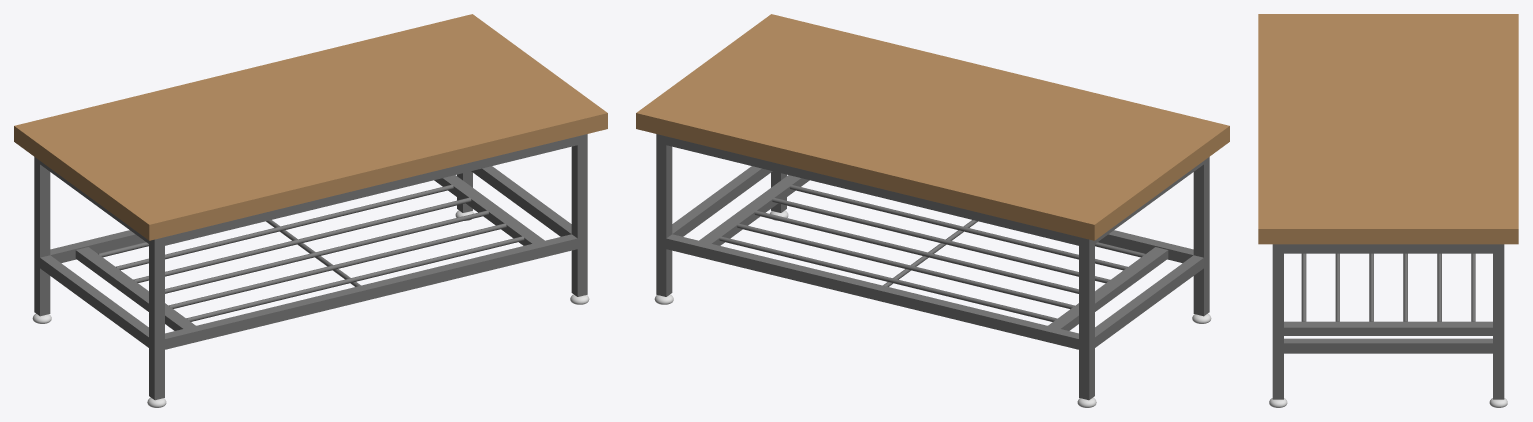
The model's file is 398_センターテーブル.glb.
The picture shows the model from 3 angles, left to right: view 1: azimuth 30°, elevation 25°; view 2: azimuth 150°, elevation 25°; view 3: azimuth 270°, elevation 25°; orthographic projection. The views are drawn at different scales.
Visible parts, largest first — view 1: 398_センターテーブル; view 2: 398_センターテーブル; view 3: 398_センターテーブル.
Boxes of the visible parts, x1,y1,x2,y2 form: 398_センターテーブル: (14, 14, 607, 407); 398_センターテーブル: (636, 14, 1229, 407); 398_センターテーブル: (1258, 14, 1518, 407).
Bounding box in the file's own units: 0.9 × 0.36 × 0.46.
